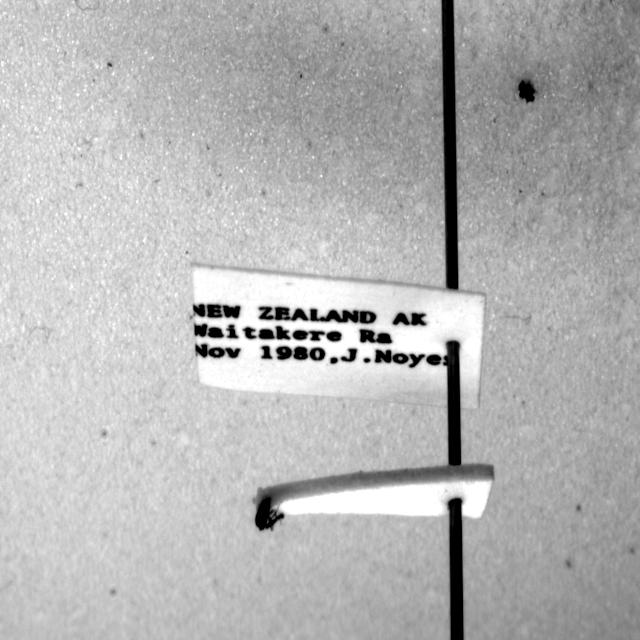typed_label: (192, 264, 485, 409)
